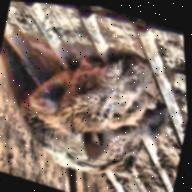boar: (1, 22, 186, 192)
